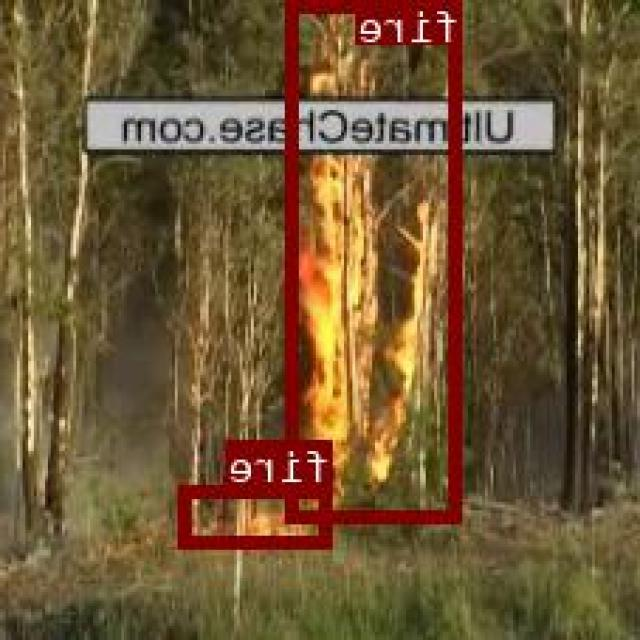fire: (288, 0, 465, 519), (182, 484, 334, 545)
